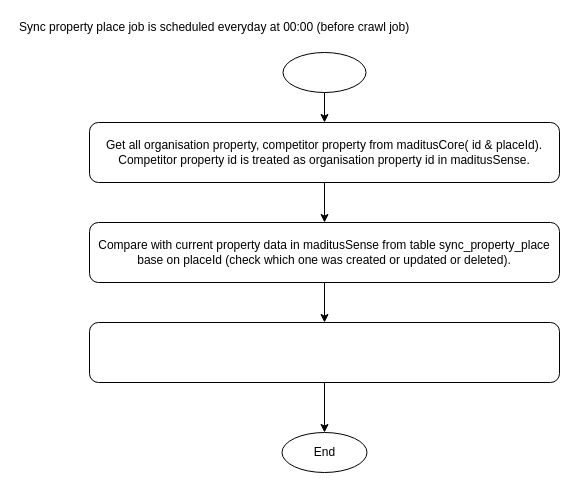
This 577x490 diagram has some shape labels left out. Here are the shapes that lost their labels. From the top down, the centre of each, then its label:
point 324,72: Start
point 324,352: Create, update, delete records in sync_property_place.
